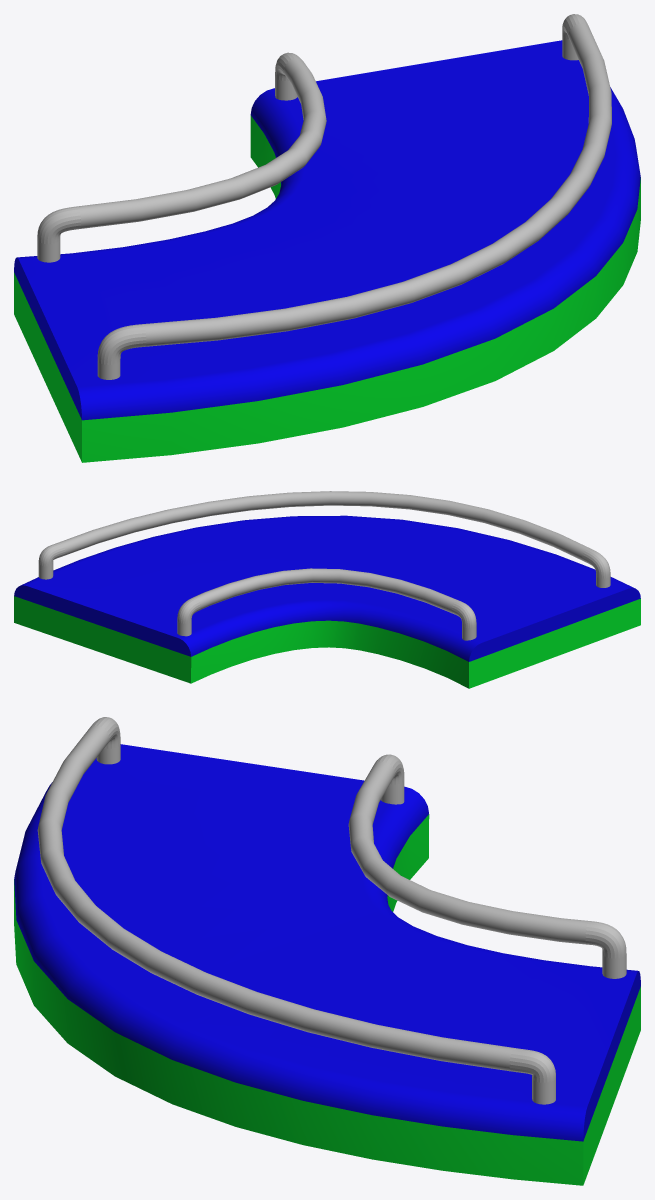
3 views of the same model, one above another, from view 1: azimuth 30°, elevation 25°; view 2: azimuth 150°, elevation 25°; view 3: azimuth 270°, elevation 25° (orthographic). The views are drawn at different scales.
Visible parts, largest first — view 1: polySurface5, pCylinder41, pCylinder45; view 2: polySurface5, pCylinder41, pCylinder45; view 3: polySurface5, pCylinder41, pCylinder45.
Boxes of the visible parts, <box> form: polySurface5: <box>14,40,640,462</box>; pCylinder41: <box>97,14,611,379</box>; pCylinder45: <box>37,52,326,262</box>; polySurface5: <box>14,515,640,688</box>; pCylinder41: <box>38,491,610,587</box>; pCylinder45: <box>177,568,476,640</box>; polySurface5: <box>14,744,640,1185</box>; pCylinder41: <box>37,717,555,1104</box>; pCylinder45: <box>348,754,626,978</box>.
Bounding box in the file's own units: 1200 × 173 × 836.
